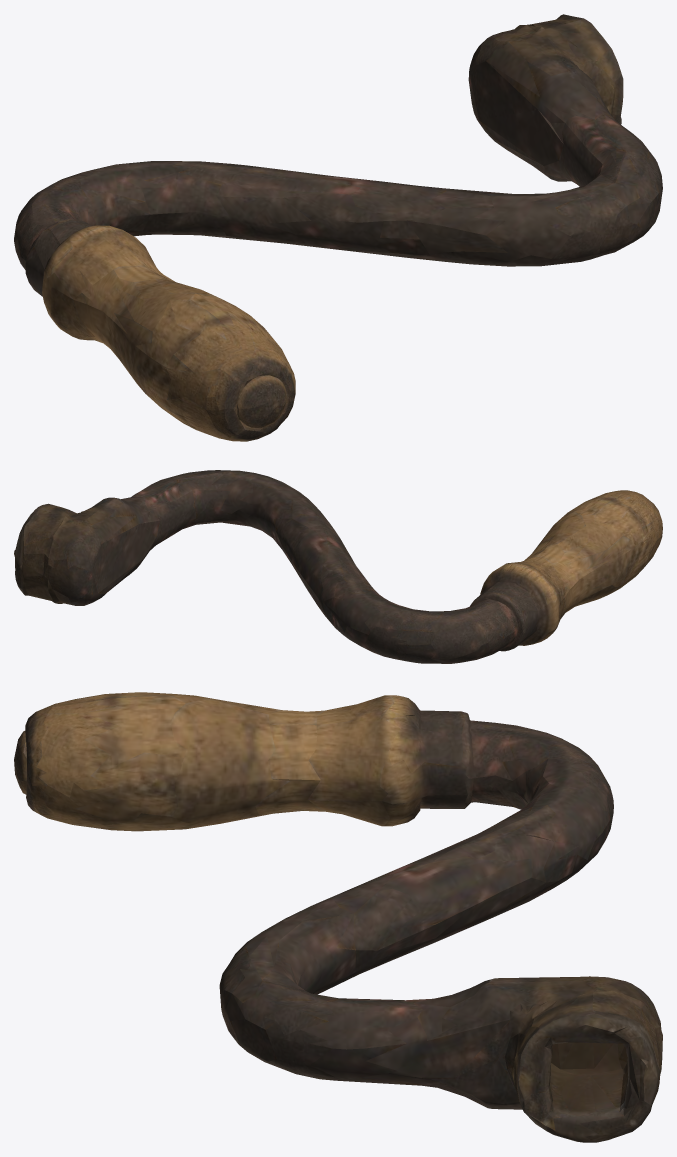
Rendered from crank_handle.glb.
3 views of the same model, one above another, from view 1: azimuth 30°, elevation 25°; view 2: azimuth 150°, elevation 25°; view 3: azimuth 270°, elevation 25° (orthographic). The views are drawn at different scales.
Visible parts, largest first — view 1: Mesh_0; view 2: Mesh_0; view 3: Mesh_0.
Part boxes in pixels (box(x1,y1,x2,y2)): Mesh_0: box(14, 14, 662, 441); Mesh_0: box(14, 470, 662, 663); Mesh_0: box(14, 692, 662, 1142).
Bounding box in the file's own units: 1.9 × 0.3313 × 1.49.
1 material, 1 textured.
